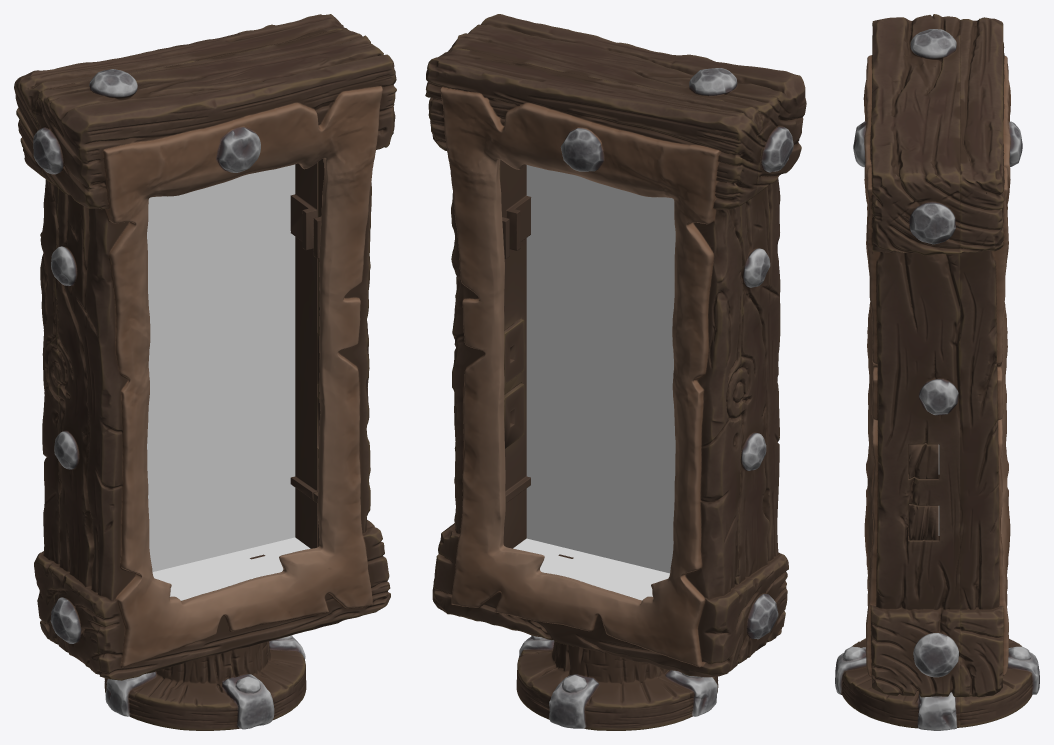
File: Customize 3D Model - Wanted.glb
3 views of the same model, side by side, from view 1: azimuth 30°, elevation 25°; view 2: azimuth 150°, elevation 25°; view 3: azimuth 270°, elevation 25° (orthographic). The views are drawn at different scales.
Visible parts, largest first — view 1: (NEW!!!!) sign, Cube; view 2: (NEW!!!!) sign, Cube; view 3: (NEW!!!!) sign.
Boxes of the visible parts, <box> form: (NEW!!!!) sign: <box>14,14,396,730</box>; Cube: <box>147,164,310,600</box>; (NEW!!!!) sign: <box>425,14,806,730</box>; Cube: <box>513,165,675,600</box>; (NEW!!!!) sign: <box>835,14,1039,730</box>.
Bounding box in the file's own units: 1.23 × 2.2 × 0.6689.
Materials: 2 (2 with a texture image).
